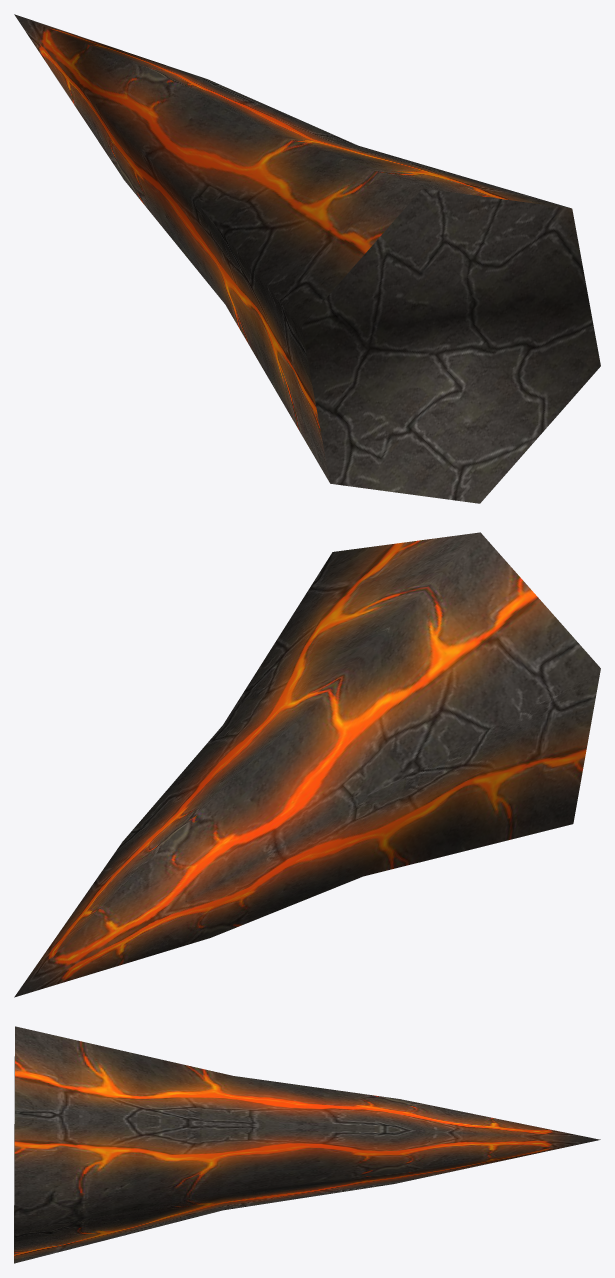
The model's file is stalactite_01.obj.
3 views of the same model, one above another, from view 1: azimuth 30°, elevation 25°; view 2: azimuth 150°, elevation 25°; view 3: azimuth 270°, elevation 25° (orthographic). The views are drawn at different scales.
Parts seen in each view (by area): view 1: (null); view 2: (null); view 3: (null).
Part boxes in pixels (x1=…): (null): x1=14, y1=14, x2=600, y2=503; (null): x1=14, y1=532, x2=600, y2=997; (null): x1=14, y1=1026, x2=600, y2=1263.
Bounding box in the file's own units: 3.05 × 3.2 × 7.78.
